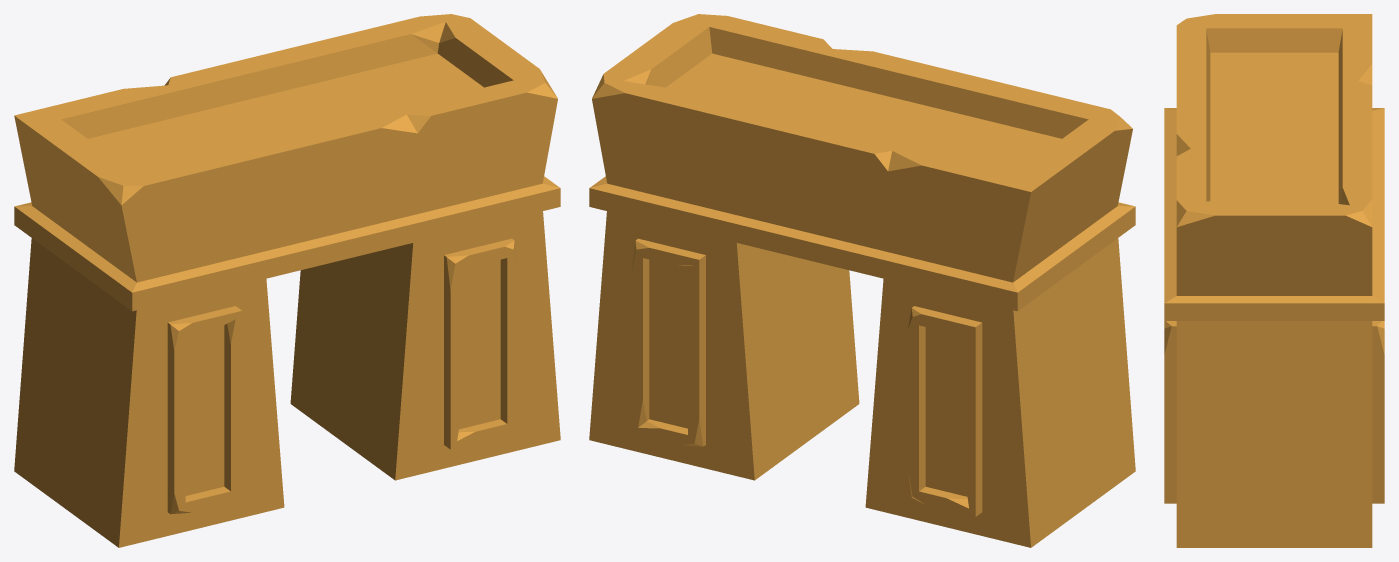
The model's file is egypt-gate.fbx.
3 views of the same model, side by side, from view 1: azimuth 30°, elevation 25°; view 2: azimuth 150°, elevation 25°; view 3: azimuth 270°, elevation 25° (orthographic). The views are drawn at different scales.
Parts seen in each view (by area): view 1: egypt-gate; view 2: egypt-gate; view 3: egypt-gate.
Part boxes in pixels (bbox=[...]): egypt-gate: bbox=[14, 14, 560, 547]; egypt-gate: bbox=[589, 14, 1135, 547]; egypt-gate: bbox=[1164, 14, 1384, 547].
Bounding box in the file's own units: 19.5 × 15 × 9.
